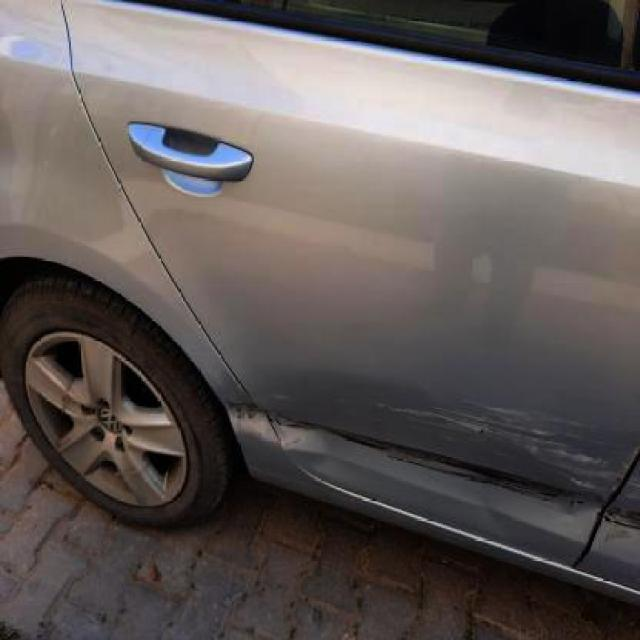car damage: (229, 393, 336, 465), (527, 425, 630, 480), (377, 399, 482, 435), (551, 470, 605, 533), (600, 525, 640, 560)
